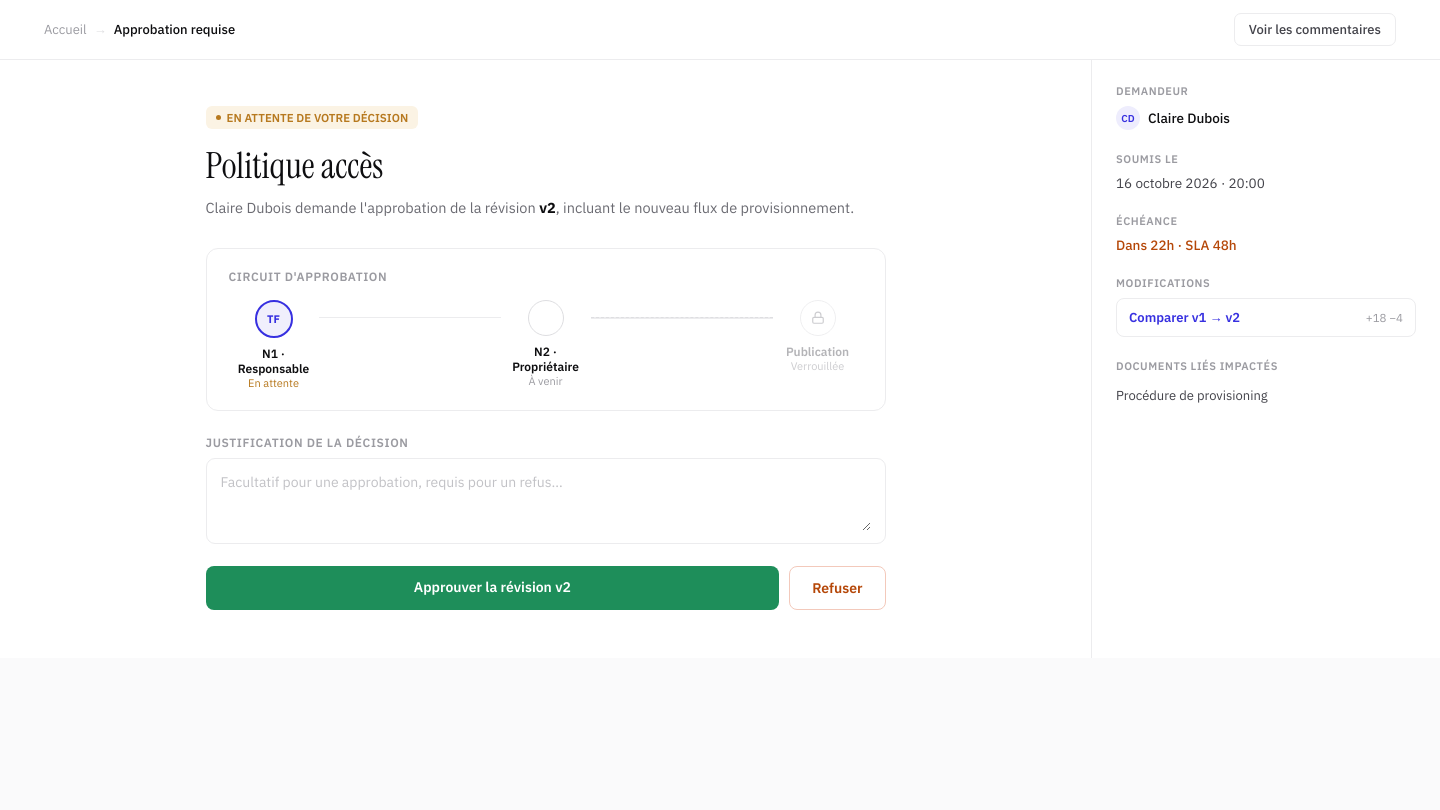
Scenario: ApprovalsPage — détail canDecide › refus sans justification : bloqué côté client
This screenshot has width=1440, height=810.
Expected: the heading "Politique accès" is shown, [206,142,383,189]
Click the button "Refuser" at coordinates (837, 588), box [789,566,886,610]
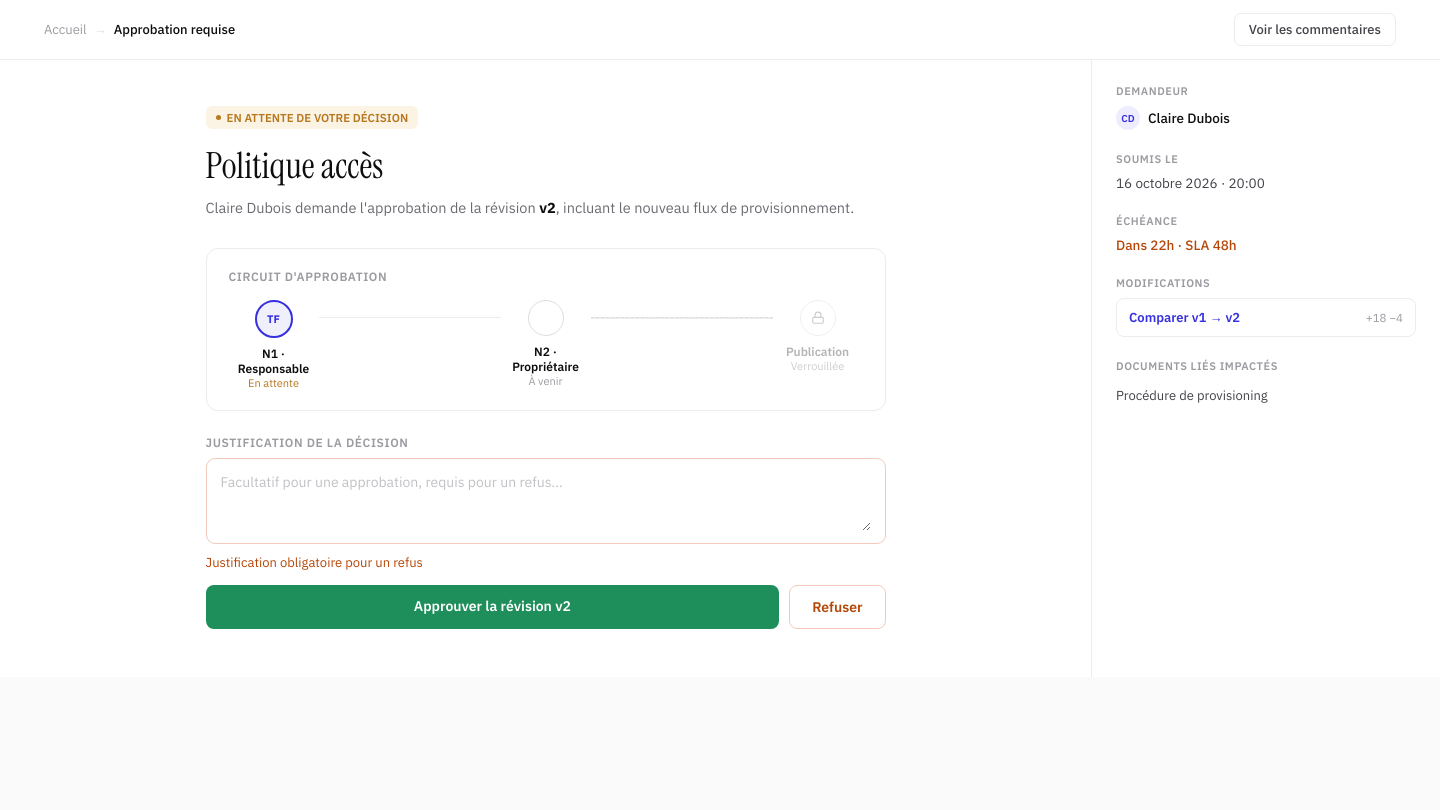
Expected: the message reads "Justification obligatoire pour un refus", [206,554,423,571]
